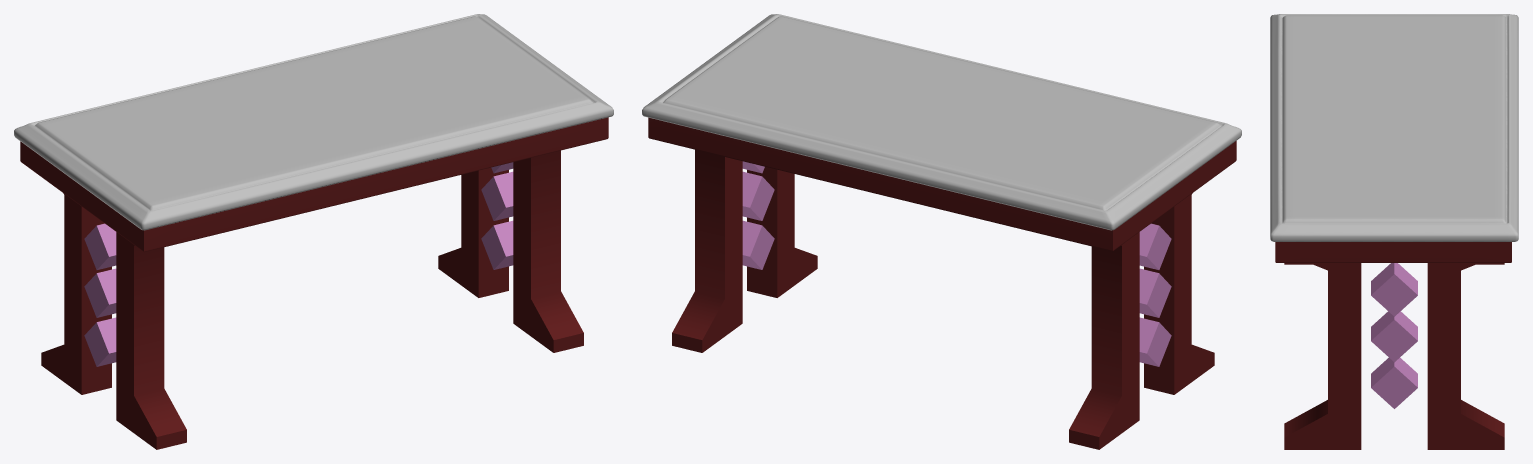
Rendered from better_table.fbx.
3 renders of one model, left to right at view 1: azimuth 30°, elevation 25°; view 2: azimuth 150°, elevation 25°; view 3: azimuth 270°, elevation 25°, orthographic. The views are drawn at different scales.
Parts seen in each view (by area): view 1: table; view 2: table; view 3: table.
Part boxes in pixels (left/top/right/bottom): table: left=14, top=14, right=613, bottom=449; table: left=642, top=14, right=1241, bottom=449; table: left=1270, top=14, right=1518, bottom=449.
Bounding box in the file's own units: 15.6 × 7.72 × 7.42.
